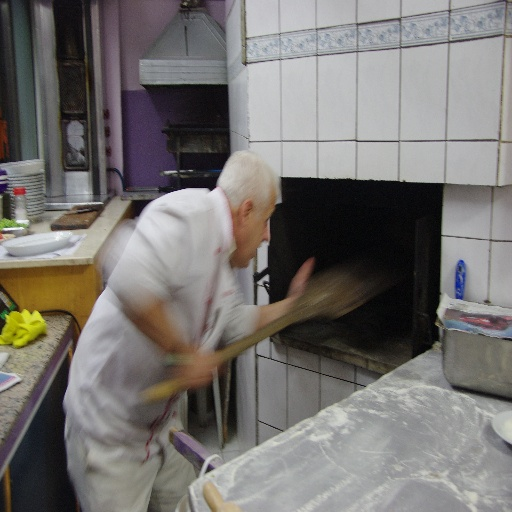hand: (170, 353, 220, 387), (286, 257, 312, 296)
